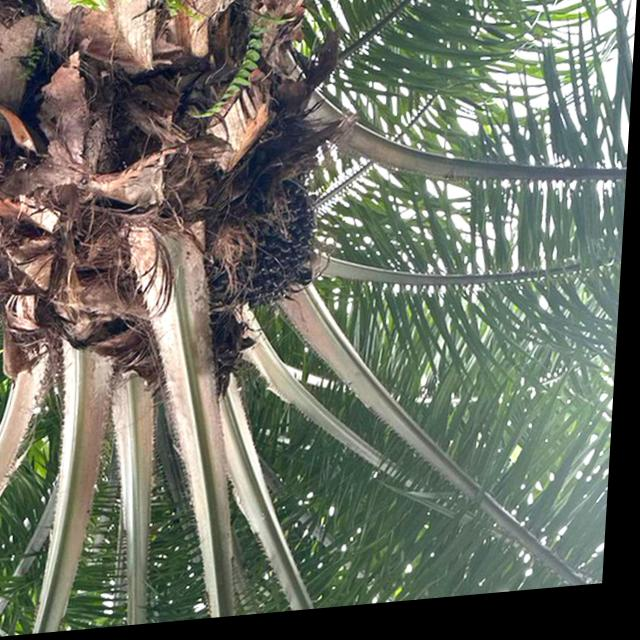unripe: (209, 179, 328, 322)
